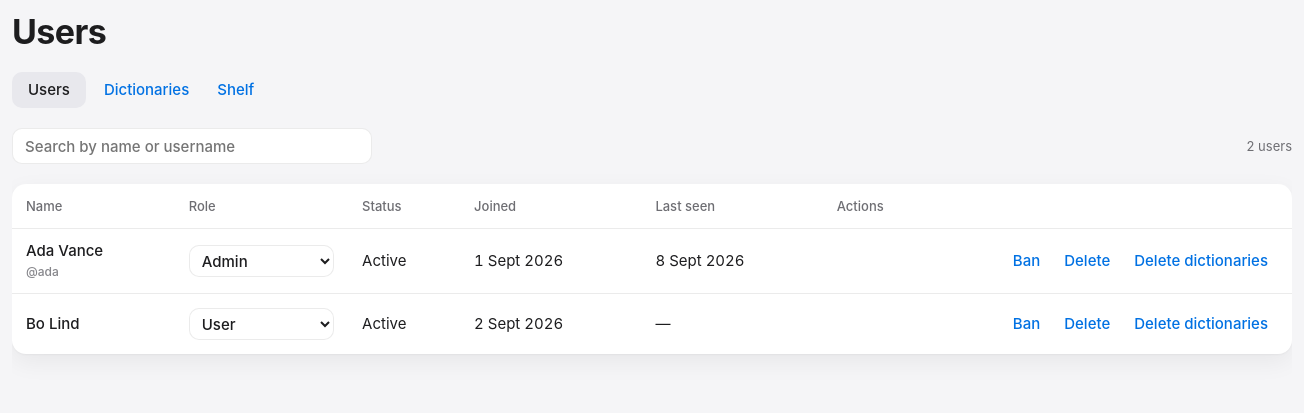
Test: AdminScreen › shows the reason when the server refuses
The width and height of the screenshot is (1304, 413).
Step 1. Select "User" in the 1st dropdown with class "role-select" → (261, 261), box 189,245 -> 334,277
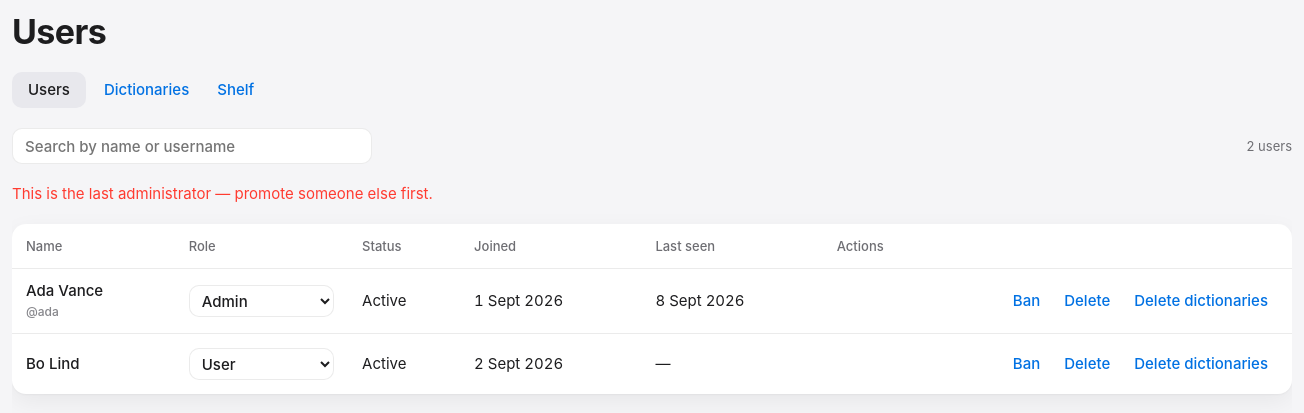
expect the text with class "error" reads "This is the last administrator — promote someone else first.": met, box 12,184 -> 433,203
